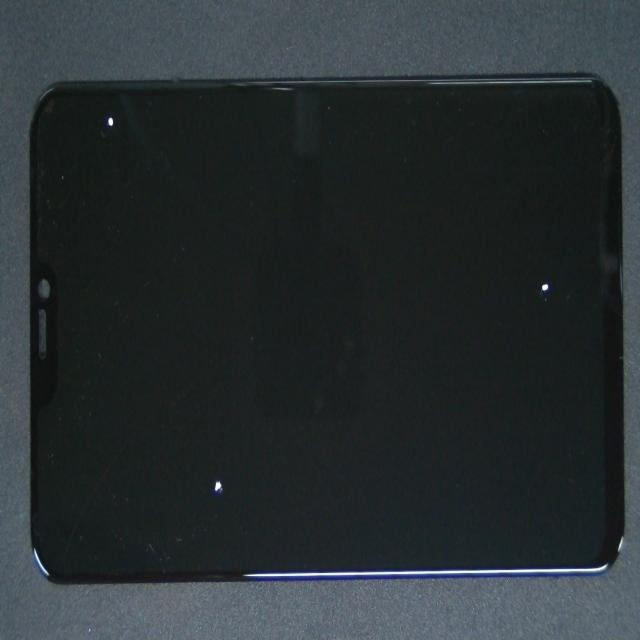stain: (108, 182, 314, 640), (297, 153, 640, 412), (74, 75, 188, 174)
